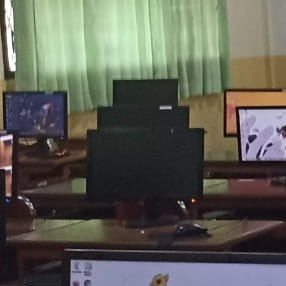monitor: (85, 126, 204, 203), (3, 90, 68, 140), (224, 89, 286, 138), (235, 105, 285, 163), (97, 105, 189, 130), (112, 79, 179, 109)
